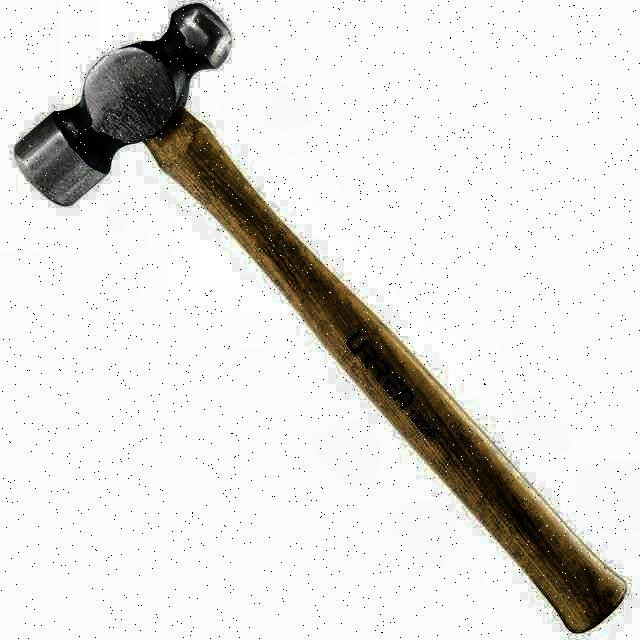hammer: (14, 3, 628, 634)
